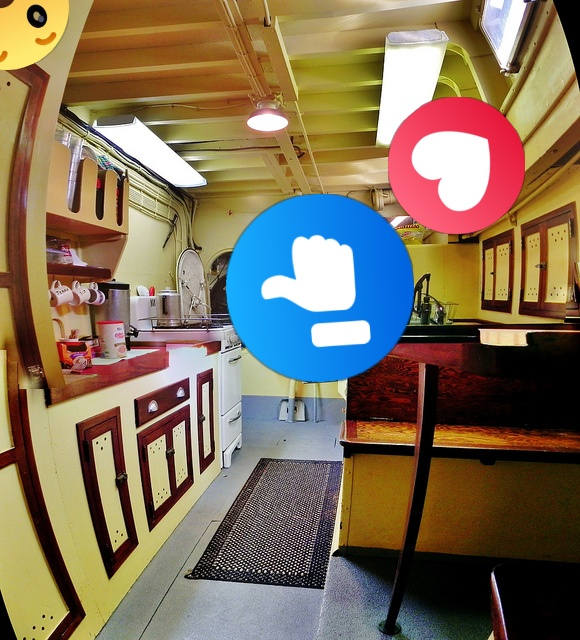like: (226, 194, 414, 382)
love: (388, 97, 525, 234)
wow: (0, 0, 69, 70)
